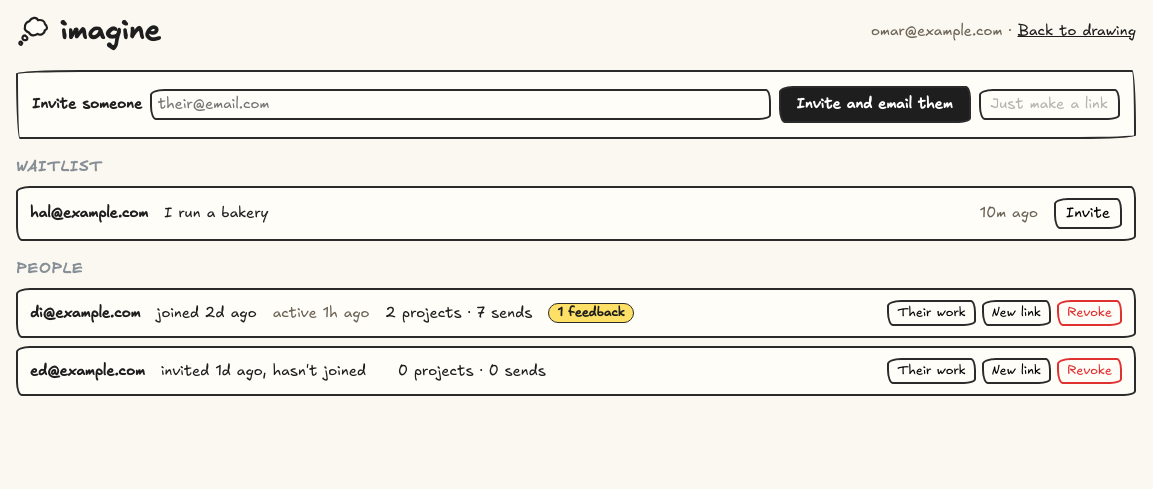
Test case: the admin's page › inviting from the waitlist mails the link and shows it to copy
Click the button "Invite" at (1088, 214), box [1054,198,1122,229]
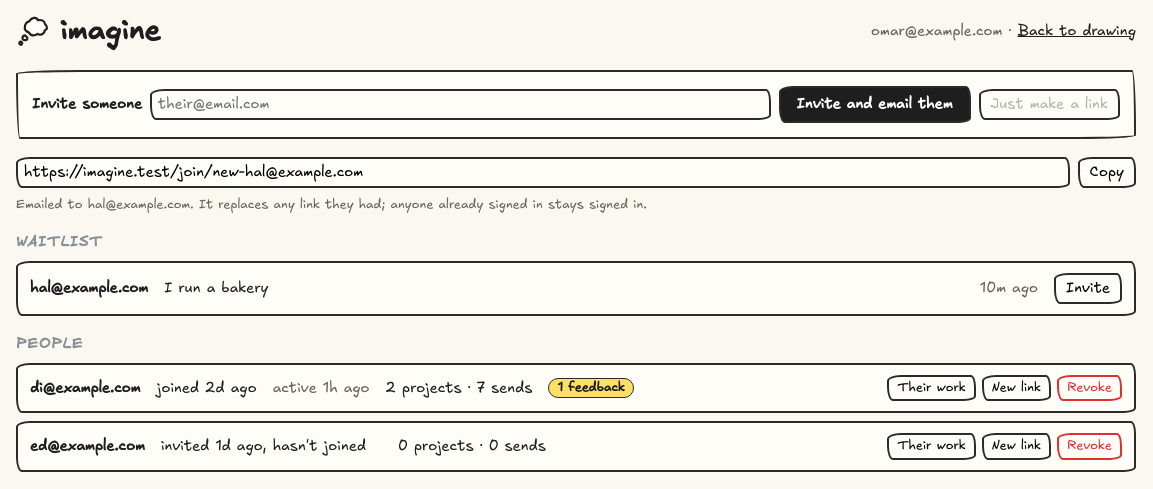
Expected: the field named "Invite link for hal@example.com" holds "https://imagine.test/join/new-hal@example.com", [16,157,1070,188]
Expected: the text "Emailed to hal@example.com" is shown, [16,196,194,213]
